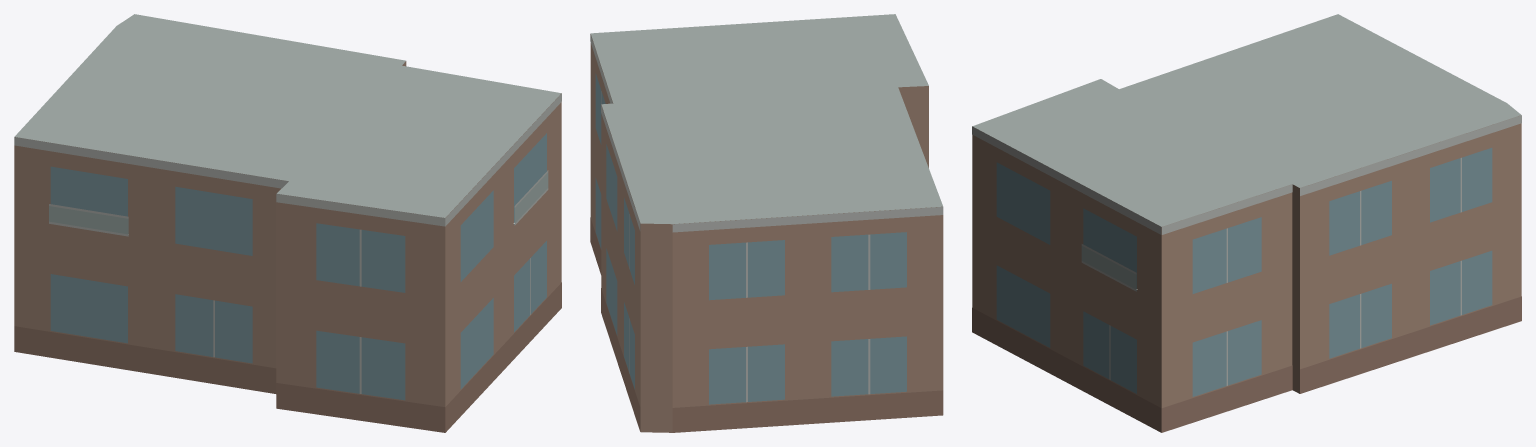
File: survey-upis-32964679.glb
The picture shows the model from 3 angles, left to right: view 1: azimuth 30°, elevation 25°; view 2: azimuth 150°, elevation 25°; view 3: azimuth 270°, elevation 25°; orthographic projection. The views are drawn at different scales.
Visible parts, largest first — view 1: survey-upis-32964679.tmp; view 2: survey-upis-32964679.tmp; view 3: survey-upis-32964679.tmp.
Part boxes in pixels (x1=…): survey-upis-32964679.tmp: x1=14, y1=14, x2=561, y2=432; survey-upis-32964679.tmp: x1=590, y1=14, x2=943, y2=432; survey-upis-32964679.tmp: x1=972, y1=14, x2=1521, y2=432.
Size of the model in its own units: 13.53 by 6.1 by 14.76.
